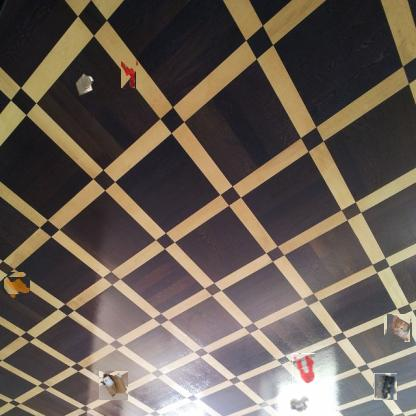dirty: (98, 370, 128, 400), (385, 315, 411, 341), (373, 374, 398, 399), (74, 72, 96, 96), (122, 60, 138, 88), (288, 394, 311, 413)
liquid: (292, 353, 315, 383), (6, 274, 28, 296)
